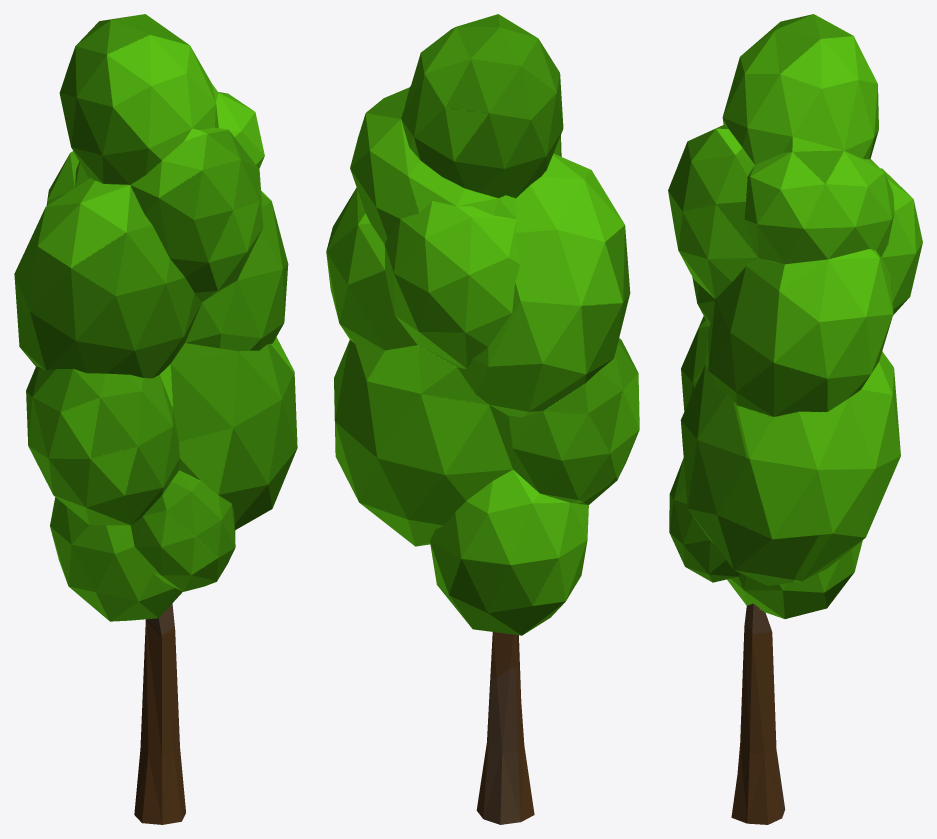
The model's file is tree2.fbx.
The picture shows the model from 3 angles, left to right: view 1: azimuth 30°, elevation 25°; view 2: azimuth 150°, elevation 25°; view 3: azimuth 270°, elevation 25°; orthographic projection. The views are drawn at different scales.
Parts seen in each view (by area): view 1: _7_tree; view 2: _7_tree; view 3: _7_tree.
Part boxes in pixels (bbox=[...]): _7_tree: bbox=[14, 14, 297, 824]; _7_tree: bbox=[326, 14, 639, 824]; _7_tree: bbox=[668, 14, 922, 824].
Size of the model in its own units: 81.41 by 95.97 by 278.
